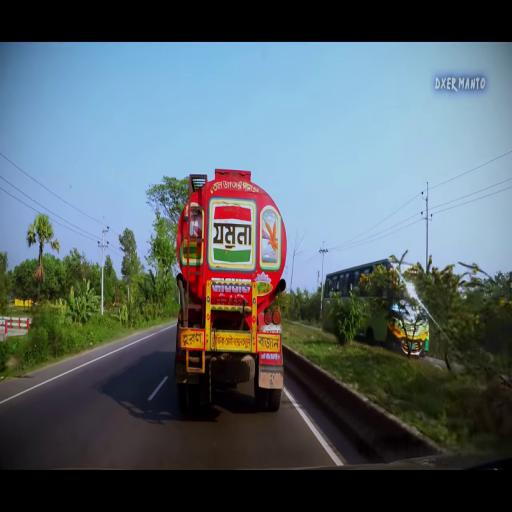bus: (361, 254, 431, 350)
truck: (174, 163, 289, 421)
